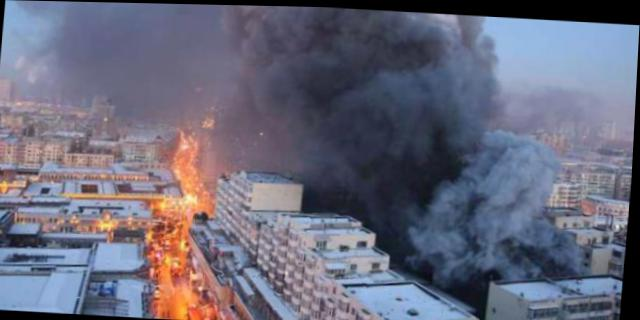fire: (172, 280, 202, 319), (182, 171, 213, 208), (175, 132, 200, 170), (172, 210, 190, 238), (156, 195, 183, 211), (162, 253, 173, 282), (180, 236, 190, 257), (102, 218, 115, 228)
